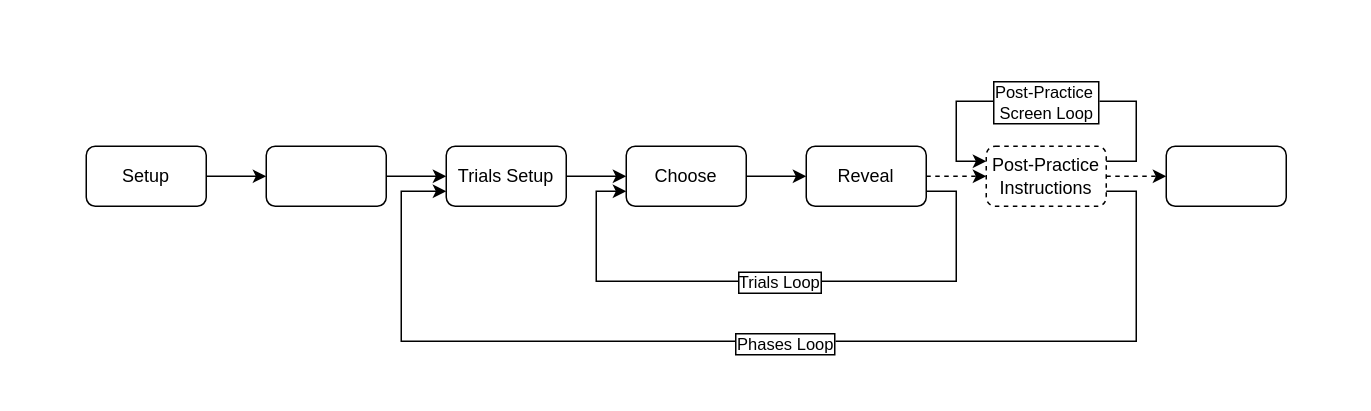
This 1371x411 diagram has some shape labels left out. Each missing label, with the centre of its shape:
End Experiment: the point at 1225,175
Experiment Instructions: the point at 325,175
